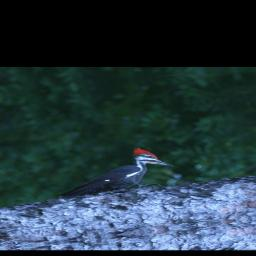Woodpecker: (39, 144, 186, 202)
